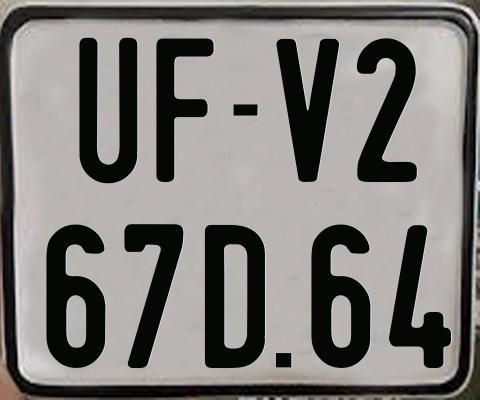2: (357, 36, 420, 182)
4: (386, 224, 453, 370)
6: (45, 224, 107, 372), (308, 224, 368, 372)
7: (124, 221, 189, 365)
D: (204, 224, 269, 370)
F: (155, 36, 215, 186)
U: (78, 35, 136, 183)
V: (274, 36, 337, 179)
